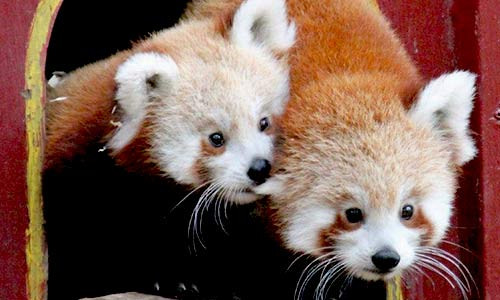red_panda: (269, 8, 476, 289), (62, 9, 287, 219)
